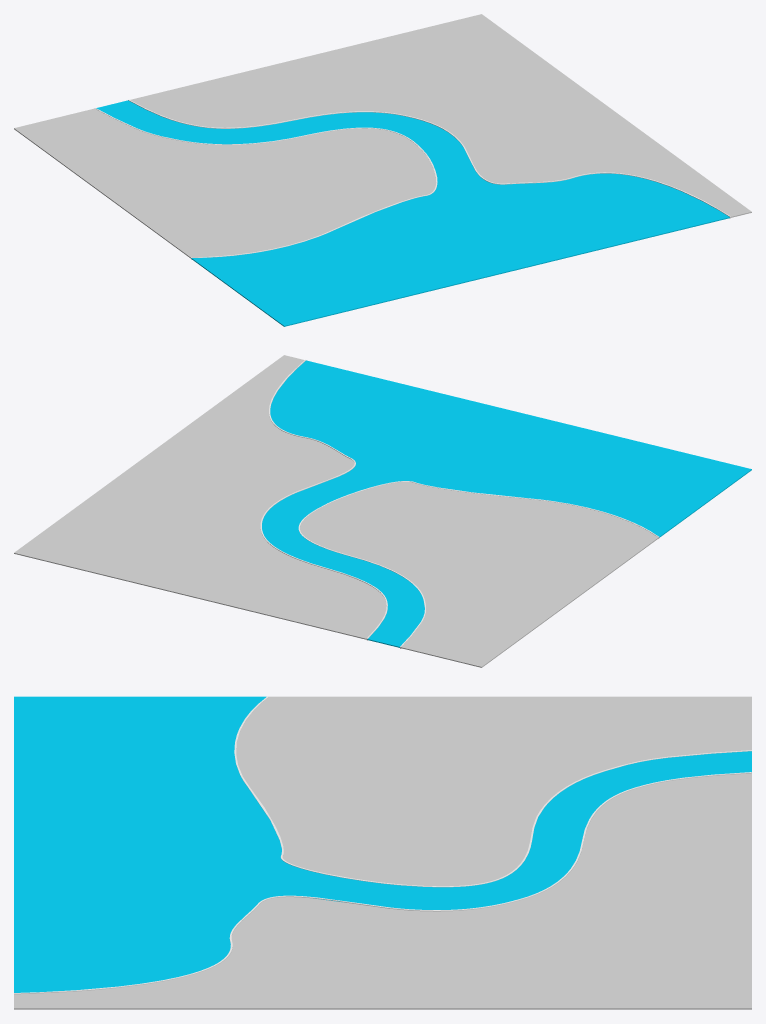
The model's file is CoastRiver.gltf.
3 renders of one model, top to bottom at view 1: azimuth 30°, elevation 25°; view 2: azimuth 150°, elevation 25°; view 3: azimuth 270°, elevation 25°, orthographic. The views are drawn at different scales.
Visible parts, largest first — view 1: River, LeftCoast, RightCoast, LeftBordur, RightBordur; view 2: River, LeftCoast, RightCoast, RightBordur, LeftBordur; view 3: River, LeftCoast, RightCoast, LeftBordur, RightBordur.
Part boxes in pixels (left/top/right/bottom): River: left=96, top=100, right=729, bottom=326; LeftCoast: left=130, top=14, right=751, bottom=217; RightCoast: left=14, top=108, right=436, bottom=258; LeftBordur: left=128, top=99, right=730, bottom=218; RightBordur: left=95, top=108, right=437, bottom=259; River: left=262, top=360, right=751, bottom=647; LeftCoast: left=14, top=355, right=386, bottom=639; RightCoast: left=300, top=481, right=658, bottom=667; RightBordur: left=298, top=481, right=659, bottom=648; LeftBordur: left=260, top=359, right=387, bottom=640; River: left=14, top=696, right=751, bottom=992; LeftCoast: left=14, top=773, right=751, bottom=1009; RightCoast: left=236, top=696, right=751, bottom=886; LeftBordur: left=14, top=772, right=751, bottom=994; RightBordur: left=234, top=696, right=751, bottom=887.
Size of the model in its own units: 5 by 0.0226 by 5.
